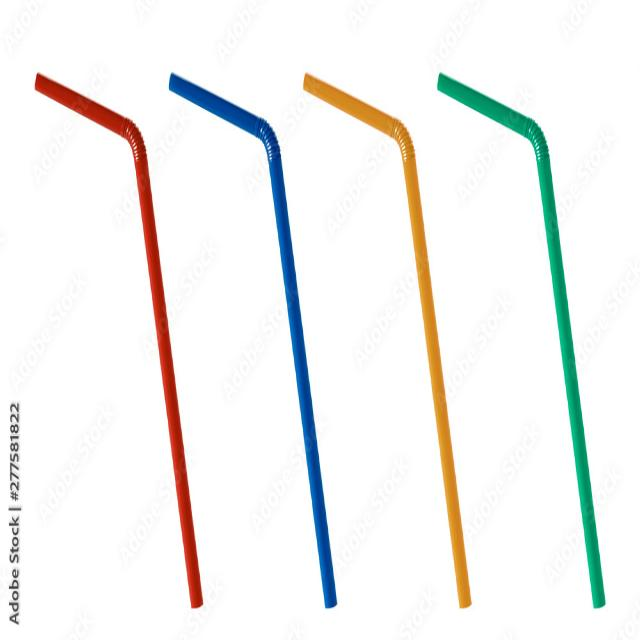plastic: (426, 63, 630, 635)
